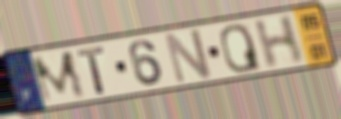6: (127, 39, 165, 87)
H: (252, 12, 306, 71)
M: (29, 48, 89, 107)
N: (162, 26, 214, 87)
Q: (218, 22, 264, 75)
T: (75, 44, 108, 96)
